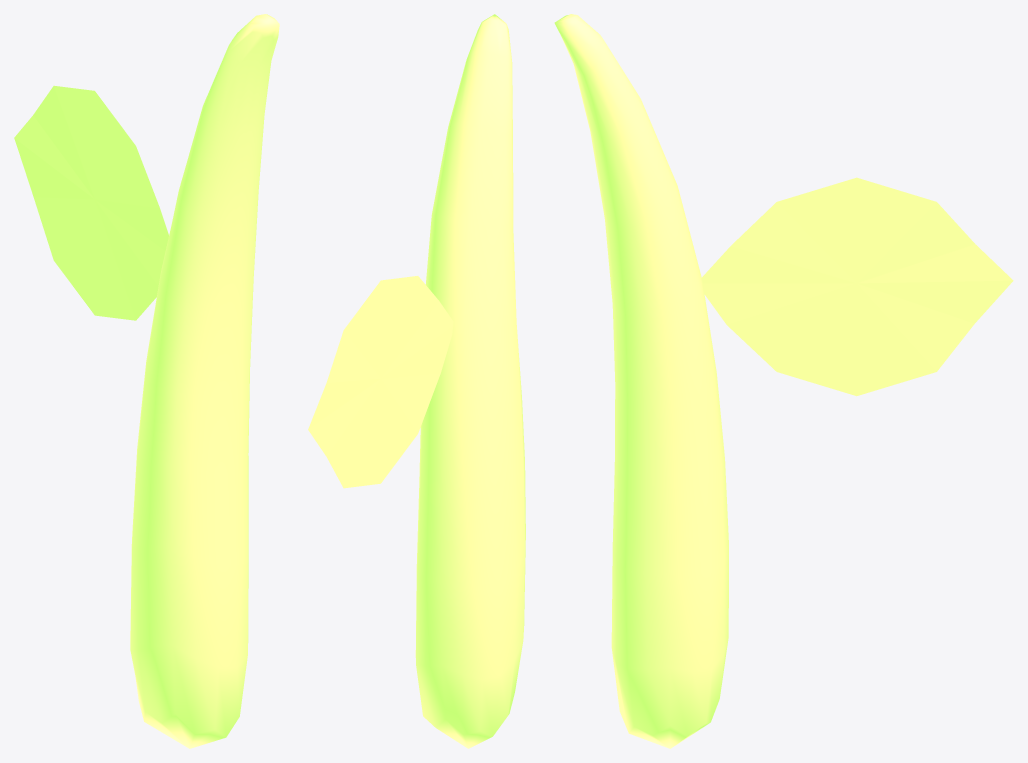
Rendered from Plant.fbx.
3 renders of one model, left to right at view 1: azimuth 30°, elevation 25°; view 2: azimuth 150°, elevation 25°; view 3: azimuth 270°, elevation 25°, orthographic. The views are drawn at different scales.
Parts seen in each view (by area): view 1: Plant, Leaf; view 2: Plant, Leaf; view 3: Plant, Leaf.
Boxes of the visible parts, x1,y1,x2,y2 form: Plant: [130, 14, 279, 748]; Leaf: [14, 85, 168, 320]; Plant: [415, 14, 525, 748]; Leaf: [308, 276, 453, 488]; Plant: [554, 14, 728, 748]; Leaf: [702, 177, 1013, 396].
Bounding box in the file's own units: 3.87 × 27.47 × 15.37.
